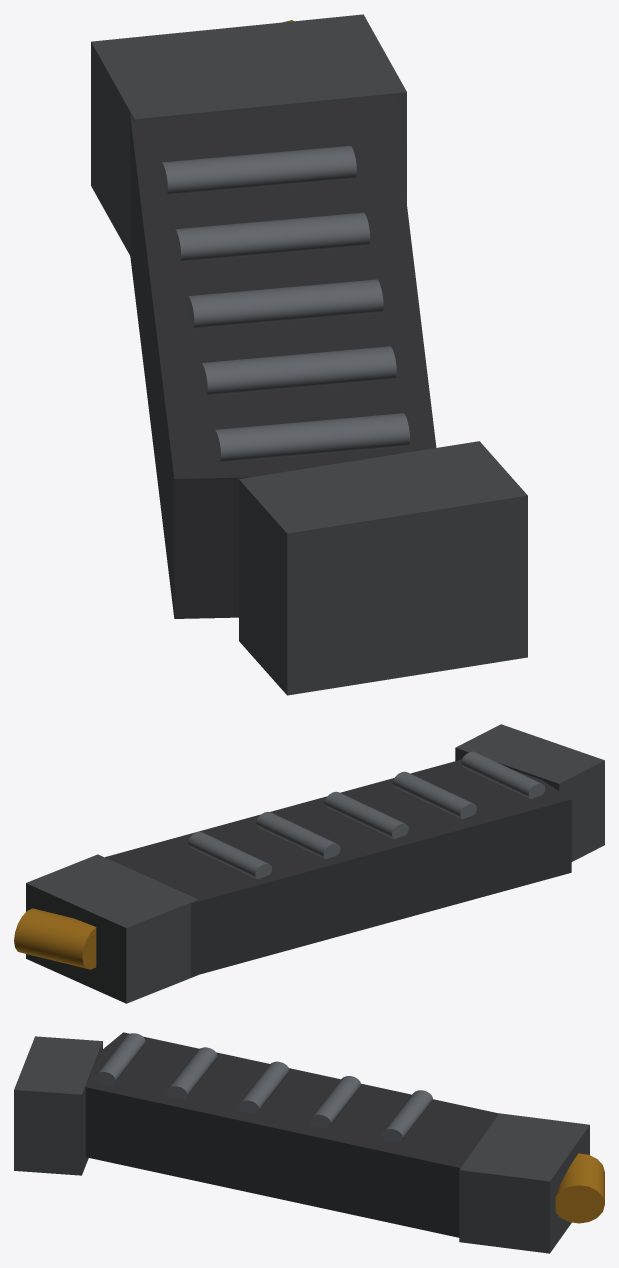
File: CMU3DFieldRMCMagazinePistolB92FSCloud.glb
3 views of the same model, one above another, from view 1: azimuth 30°, elevation 25°; view 2: azimuth 150°, elevation 25°; view 3: azimuth 270°, elevation 25° (orthographic). The views are drawn at different scales.
Visible parts, largest first — view 1: dark offset magazine shell, flared lower shoe, shell upper shoulder, stamped horizontal rib 2, stamped horizontal rib 3, stamped horizontal rib 0, stamped horizontal rib 1, stamped horizontal rib 4; view 2: dark offset magazine shell, shell upper shoulder, flared lower shoe, visible gold top round, stamped horizontal rib 3, stamped horizontal rib 0, stamped horizontal rib 1, stamped horizontal rib 2, stamped horizontal rib 4; view 3: dark offset magazine shell, shell upper shoulder, flared lower shoe, visible gold top round, stamped horizontal rib 2, stamped horizontal rib 0, stamped horizontal rib 4, stamped horizontal rib 1, stamped horizontal rib 3.
Part boxes in pixels (x1,y1,x2,y2): dark offset magazine shell: (130,95,436,618); flared lower shoe: (239,441,527,695); shell upper shoulder: (91,14,406,255); stamped horizontal rib 2: (185,279,383,328); stamped horizontal rib 3: (172,212,370,262); stamped horizontal rib 0: (212,413,409,462); stamped horizontal rib 1: (199,346,396,395); stamped horizontal rib 4: (159,145,356,195); dark offset magazine shell: (105,759,571,976); shell upper shoulder: (26,854,198,1003); flared lower shoe: (455,724,604,861); visible gold top round: (14,908,96,969); stamped horizontal rib 3: (256,812,340,859); stamped horizontal rib 0: (461,751,545,798); stamped horizontal rib 1: (393,771,476,818); stamped horizontal rib 2: (324,791,408,839); stamped horizontal rib 4: (188,832,272,879); dark offset magazine shell: (85,1032,499,1237); shell upper shoulder: (459,1113,589,1253); flared lower shoe: (14,1036,102,1175); visible gold top round: (555,1153,604,1223); stamped horizontal rib 2: (238,1061,289,1113); stamped horizontal rib 0: (95,1033,145,1085); stamped horizontal rib 4: (382,1090,432,1142); stamped horizontal rib 1: (167,1047,217,1099); stamped horizontal rib 3: (310,1076,360,1127).
Size of the model in its own units: 0.1841 by 0.0522 by 0.306.
